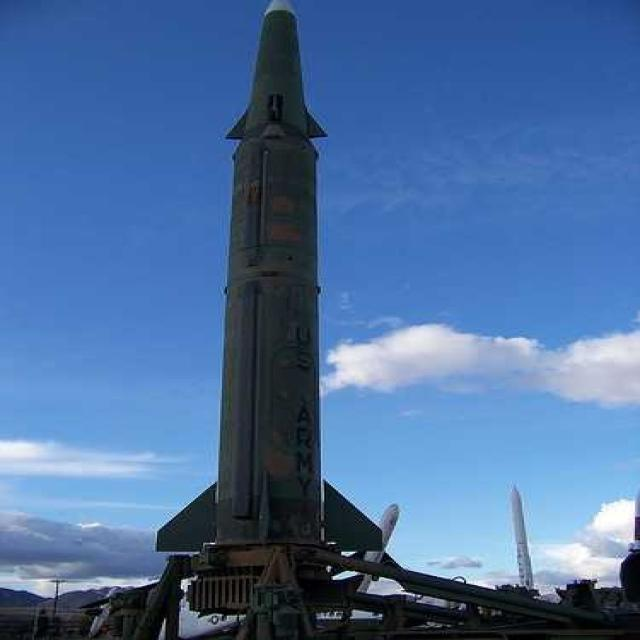missile: (154, 0, 388, 624)
